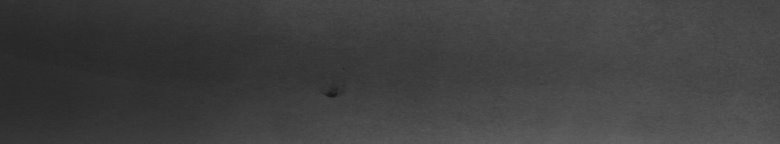fi: (321, 88, 343, 104)
